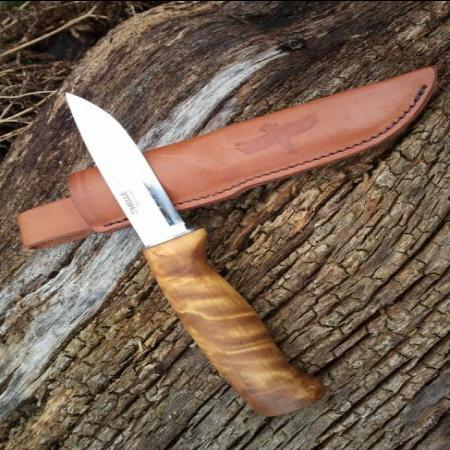long weapon: (53, 83, 203, 279)
